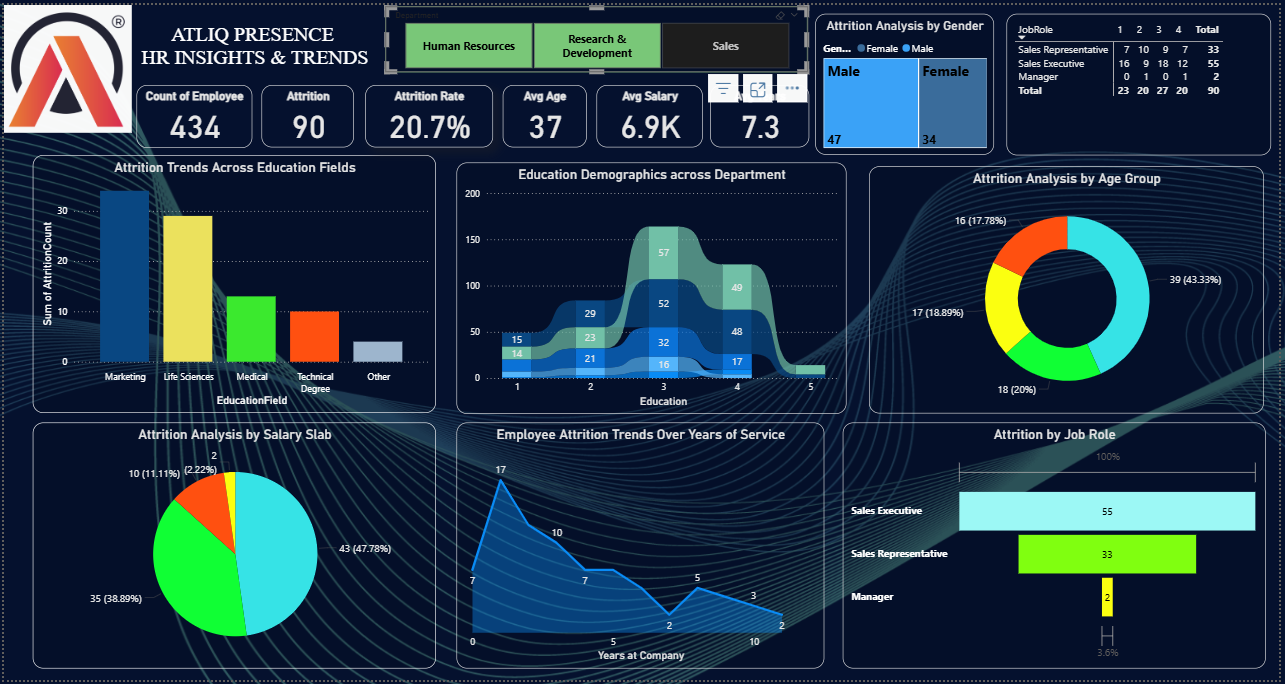

Layout of this report page (visuals, bound fields, positions):
{"tool":"powerbi","page":{"name":"Page 2","canvas":[1700,900],"ordinal":0},"visuals":[{"type":"clusteredColumnChart","title":"Attrition Trends Across Education Fields","fields":{"Category":["HR_Analytics.EducationField"],"Y":["Sum(HR_Analytics.AttritionCount)"]},"box":[37.7,200,537.7,344.3],"z":0},{"type":"card","title":"Count of Employee","fields":{"Values":["CountNonNull(HR_Analytics.EmpID)"]},"box":[177.1,107.1,154.1,83.6],"z":1000},{"type":"card","title":"Attrition","fields":{"Values":["Sum(HR_Analytics.AttritionCount)"]},"box":[344,107,123.3,83.3],"z":2000},{"type":"card","title":"Attrition Rate","fields":{"Values":["HR_Analytics.AttritionRate"]},"box":[482.3,107,170,83.3],"z":3000},{"type":"card","title":"Avg Age","fields":{"Values":["Avg(HR_Analytics.Age)"]},"box":[665.6,107,111.7,83.3],"z":4000},{"type":"card","title":"Avg Salary","fields":{"Values":["Avg(HR_Analytics.MonthlyIncome)"]},"box":[790.6,107,141.7,83.3],"z":5000},{"type":"card","title":"Avg Years","fields":{"Values":["Avg(HR_Analytics.YearsAtCompany)"]},"box":[942.3,107,131.7,83.3],"z":6000},{"type":"pivotTable","fields":{"Rows":["HR_Analytics.JobRole"],"Columns":["HR_Analytics.JobSatisfaction"],"Values":["Sum(HR_Analytics.AttritionCount)"]},"box":[1336.1,11.5,352.5,188.5],"z":7000},{"type":"treemap","title":"Attrition Analysis by Gender","fields":{"Values":["Sum(HR_Analytics.AttritionCount)"],"Details":["HR_Analytics.Gender"]},"box":[1081.8,11.8,238.2,188.2],"z":8000},{"type":"slicer","fields":{"Values":["HR_Analytics.Department"]},"box":[508.3,1.7,563.3,88.3],"z":9000},{"type":"textbox","box":[168.2,1.9,332.8,103.3],"z":10000},{"type":"donutChart","title":"Attrition Analysis by Age Group","fields":{"Category":["HR_Analytics.AgeGroup"],"Y":["Sum(HR_Analytics.AttritionCount)"]},"box":[1154.1,214.8,526.2,329.5],"z":11000},{"type":"ribbonChart","title":"Education Demographics across Department ","fields":{"Y":["CountNonNull(HR_Analytics.Department)"],"Category":["HR_Analytics.Education"],"Series":["HR_Analytics.EducationField"]},"box":[602.9,209.3,520,335],"z":12000},{"type":"pieChart","title":"Attrition Analysis by Salary Slab","fields":{"Category":["HR_Analytics.SalarySlab"],"Y":["Sum(HR_Analytics.AttritionCount)"]},"box":[37.7,557.4,537.7,327.9],"z":13000},{"type":"areaChart","title":"Employee Attrition Trends Over Years of Service","fields":{"Category":["HR_Analytics.YearsAtCompany"],"Y":["Sum(HR_Analytics.AttritionCount)"]},"box":[603.3,557.4,490.2,327.9],"z":14000},{"type":"funnel","title":"Attrition by Job Role","fields":{"Category":["HR_Analytics.JobRole"],"Y":["Sum(HR_Analytics.AttritionCount)"]},"box":[1118,557.4,563.9,327.9],"z":15000},{"type":"image","box":[0,0,170.5,170.5],"z":16000}]}

Visuals, with their boxes in screenshot pixels (x1, y1, x2, y2), scaled from the page's 1700x900 canvas onto the 1285x684 screenshot:
"Attrition Trends Across Education Fields" clusteredColumnChart: left=28, top=152, right=435, bottom=414
"Count of Employee" card: left=134, top=81, right=250, bottom=145
"Attrition" card: left=260, top=81, right=353, bottom=145
"Attrition Rate" card: left=365, top=81, right=493, bottom=145
"Avg Age" card: left=503, top=81, right=588, bottom=145
"Avg Salary" card: left=598, top=81, right=705, bottom=145
"Avg Years" card: left=712, top=81, right=812, bottom=145
pivotTable - HR_Analytics.JobRole x HR_Analytics.JobSatisfaction: left=1010, top=9, right=1276, bottom=152
"Attrition Analysis by Gender" treemap: left=818, top=9, right=998, bottom=152
slicer - HR_Analytics.Department: left=384, top=1, right=810, bottom=68
textbox: left=127, top=1, right=379, bottom=80
"Attrition Analysis by Age Group" donutChart: left=872, top=163, right=1270, bottom=414
"Education Demographics across Department " ribbonChart: left=456, top=159, right=849, bottom=414
"Attrition Analysis by Salary Slab" pieChart: left=28, top=424, right=435, bottom=673
"Employee Attrition Trends Over Years of Service" areaChart: left=456, top=424, right=827, bottom=673
"Attrition by Job Role" funnel: left=845, top=424, right=1271, bottom=673
image: left=0, top=0, right=129, bottom=130
